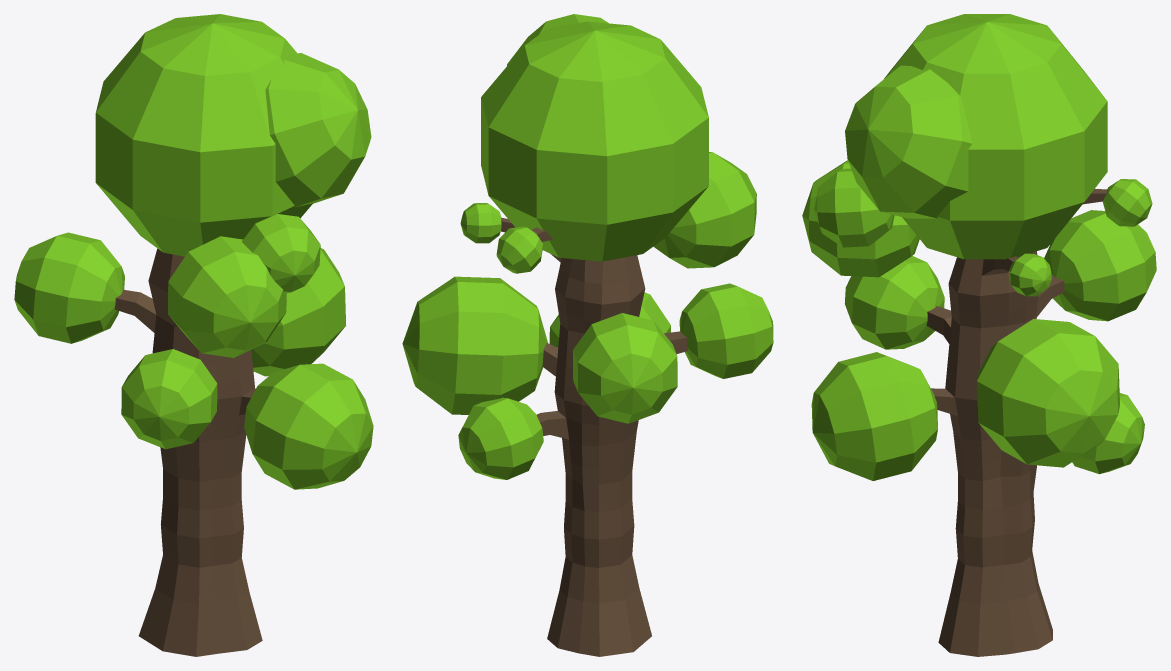
File: Tree01.FBX
The picture shows the model from 3 angles, left to right: view 1: azimuth 30°, elevation 25°; view 2: azimuth 150°, elevation 25°; view 3: azimuth 270°, elevation 25°; orthographic projection. The views are drawn at different scales.
Visible parts, largest first — view 1: Box001; view 2: Box001; view 3: Box001.
Part boxes in pixels (bbox=[...]): Box001: bbox=[14, 14, 373, 656]; Box001: bbox=[402, 14, 773, 656]; Box001: bbox=[802, 14, 1156, 656].
Size of the model in its own units: 47.83 by 97.4 by 50.2.
